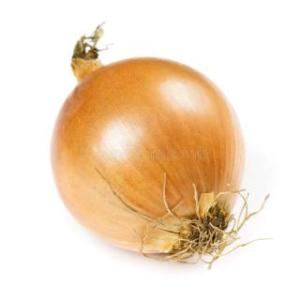onion: (46, 47, 244, 259)
